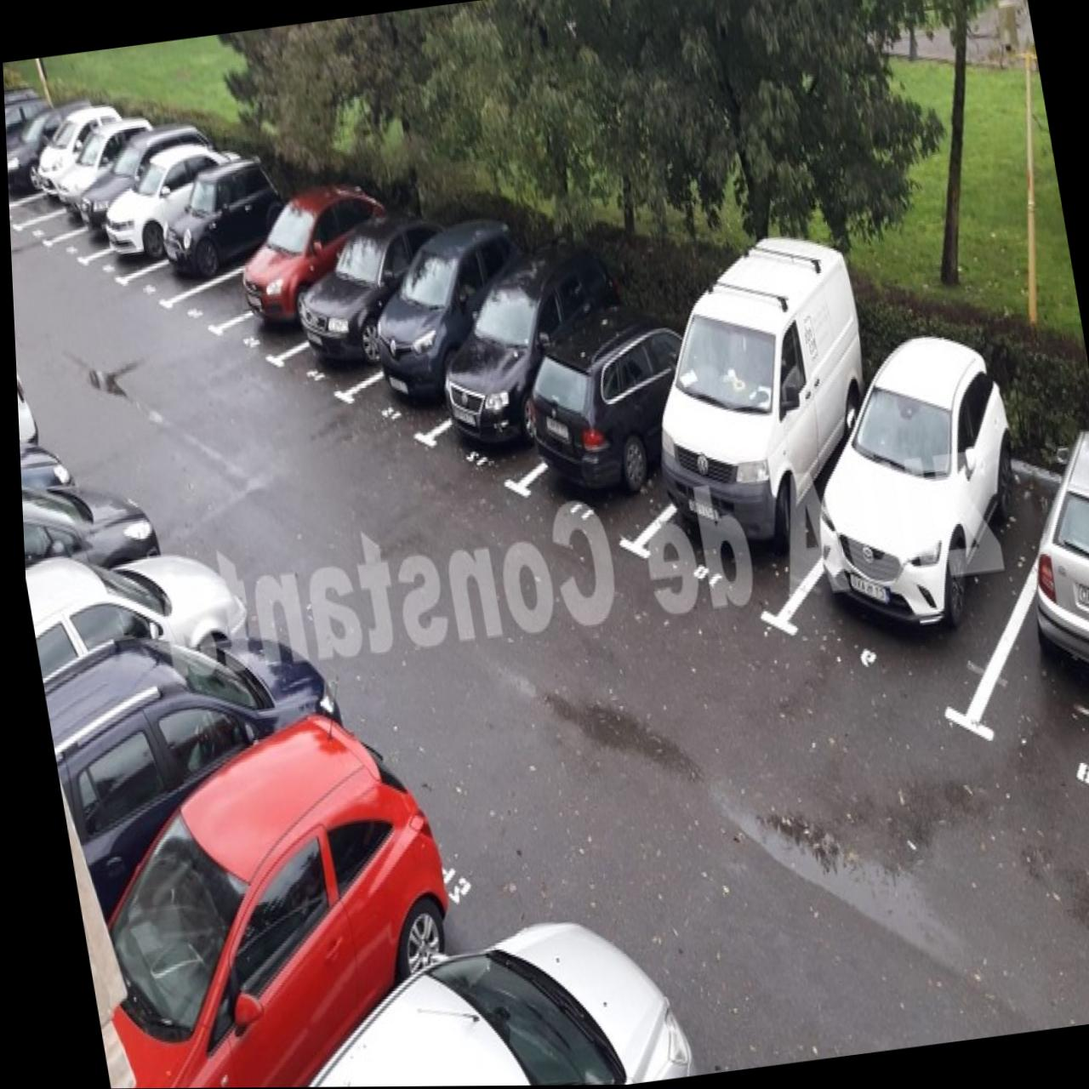cars: (56, 722, 497, 1089), (29, 568, 382, 887), (798, 404, 1074, 668), (644, 331, 877, 604), (22, 504, 279, 741), (509, 301, 728, 541), (420, 278, 634, 478), (341, 252, 557, 430), (977, 425, 1089, 749), (272, 249, 456, 394), (209, 232, 393, 362), (11, 141, 186, 263), (37, 161, 210, 278), (126, 196, 292, 303), (78, 180, 243, 287), (6, 136, 147, 246)
empty: (174, 214, 315, 331)
